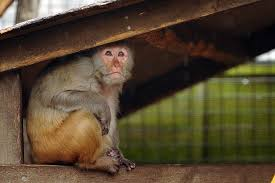monkey: (13, 43, 189, 159)
